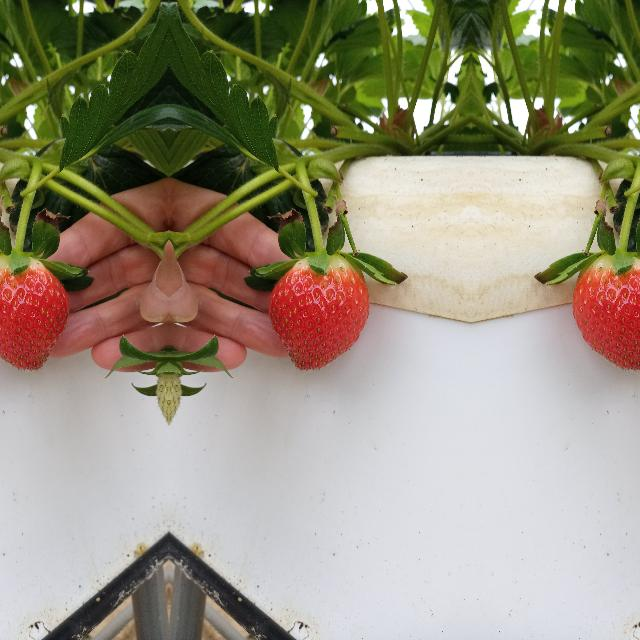Health_100: (268, 252, 368, 372), (0, 252, 68, 372), (572, 252, 640, 372)
